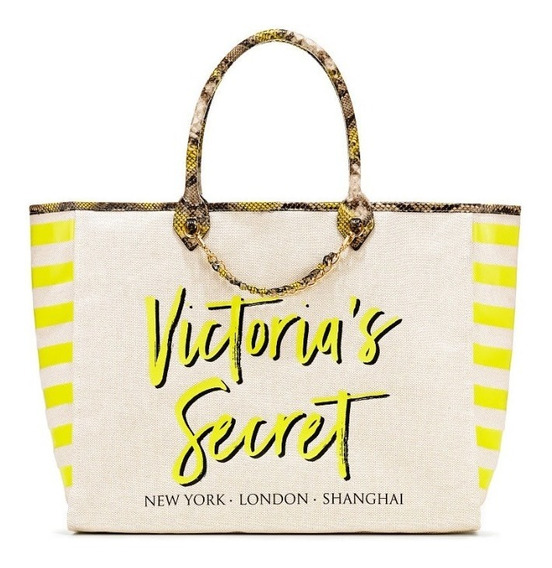cartera: (25, 28, 523, 537)
